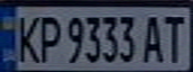3: (118, 11, 142, 63), (81, 12, 103, 64), (100, 11, 121, 63)
9: (60, 12, 84, 64)
A: (139, 11, 169, 64)
K: (9, 11, 42, 64)
P: (33, 11, 63, 64)
T: (157, 11, 190, 63)
